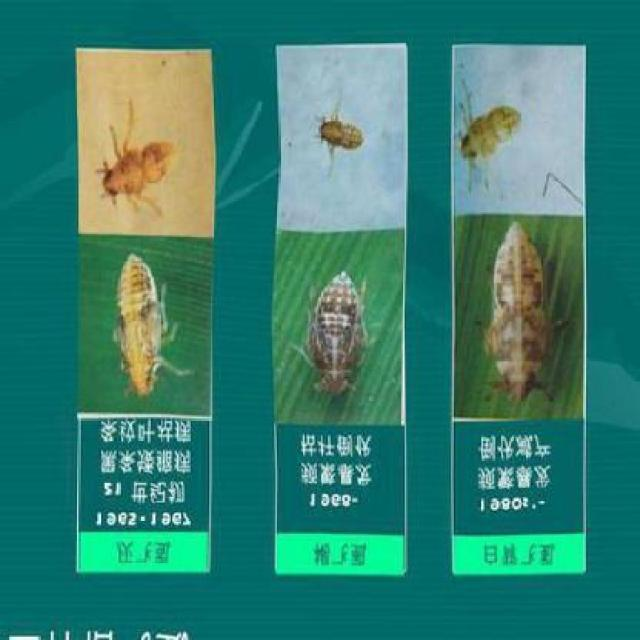brown-planthopper: (490, 219, 552, 404), (112, 249, 170, 397), (309, 265, 369, 397)
